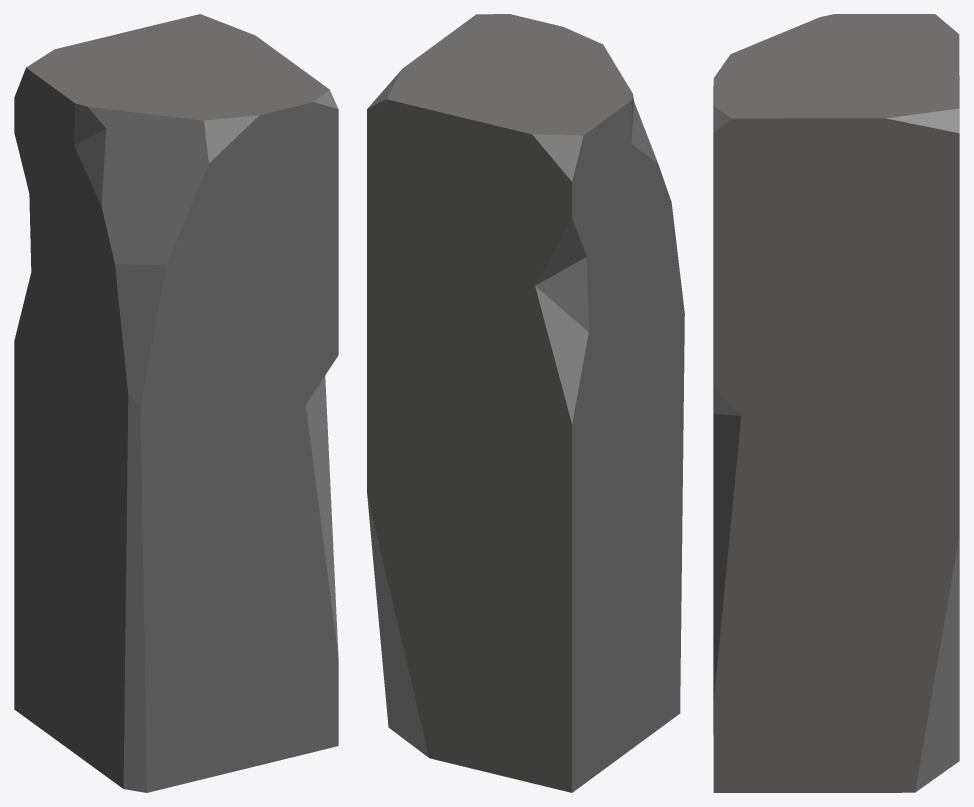
The model's file is 20C_Pillar01.fbx.
The picture shows the model from 3 angles, left to right: view 1: azimuth 30°, elevation 25°; view 2: azimuth 150°, elevation 25°; view 3: azimuth 270°, elevation 25°; orthographic projection. The views are drawn at different scales.
Parts seen in each view (by area): view 1: 20C_Pillar01; view 2: 20C_Pillar01; view 3: 20C_Pillar01.
Part boxes in pixels (x1,y1,x2,y2): 20C_Pillar01: (14,14,338,792); 20C_Pillar01: (367,14,684,792); 20C_Pillar01: (713,14,959,792).
Bounding box in the file's own units: 7.02 × 21.22 × 7.02.
